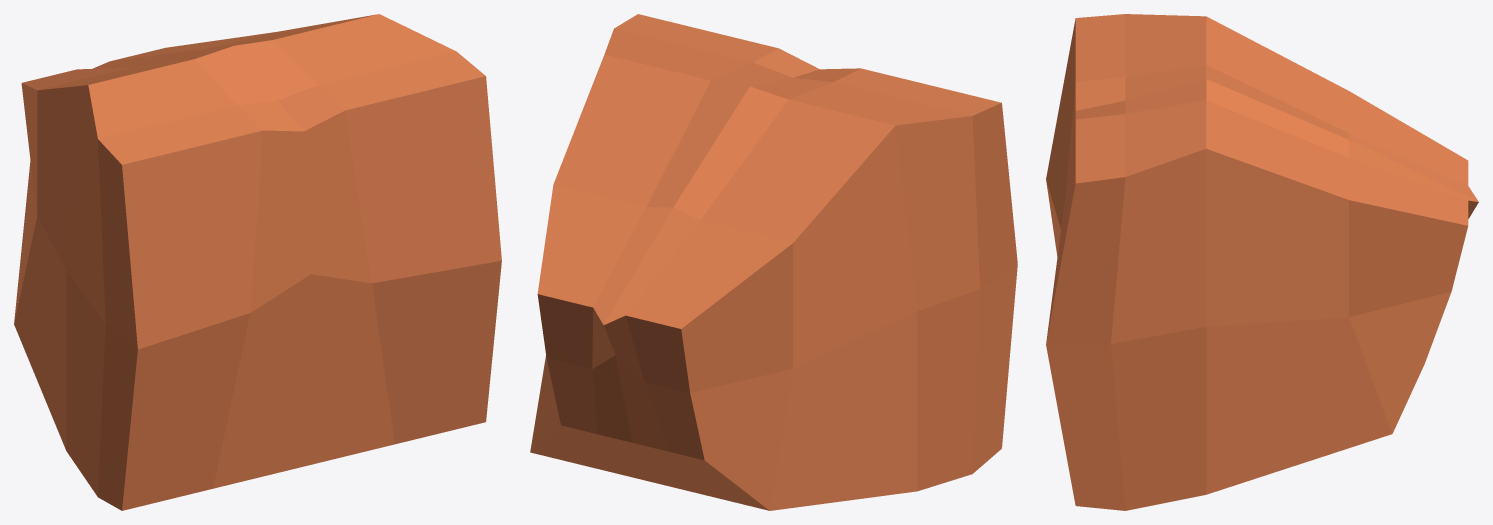
File: koifishHead.glb
3 renders of one model, left to right at view 1: azimuth 30°, elevation 25°; view 2: azimuth 150°, elevation 25°; view 3: azimuth 270°, elevation 25°, orthographic. The views are drawn at different scales.
Visible parts, largest first — view 1: Head; view 2: Head; view 3: Head.
Part boxes in pixels (bbox=[...]): Head: bbox=[14, 14, 501, 510]; Head: bbox=[530, 14, 1017, 510]; Head: bbox=[1046, 14, 1478, 510].
Size of the model in its own units: 3.78 by 3.73 by 4.17.
